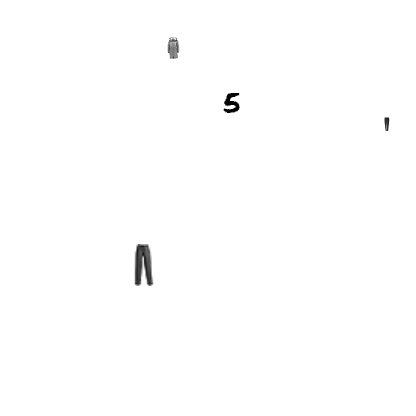5: (217, 89, 245, 117)
Coat: (162, 37, 184, 59)
Trouser: (123, 244, 165, 286), (380, 117, 394, 131)
